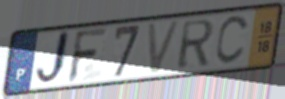7: (112, 23, 142, 80)
C: (213, 14, 252, 68)
F: (66, 26, 110, 86)
J: (34, 28, 72, 89)
R: (175, 17, 216, 72)
V: (145, 18, 183, 77)
